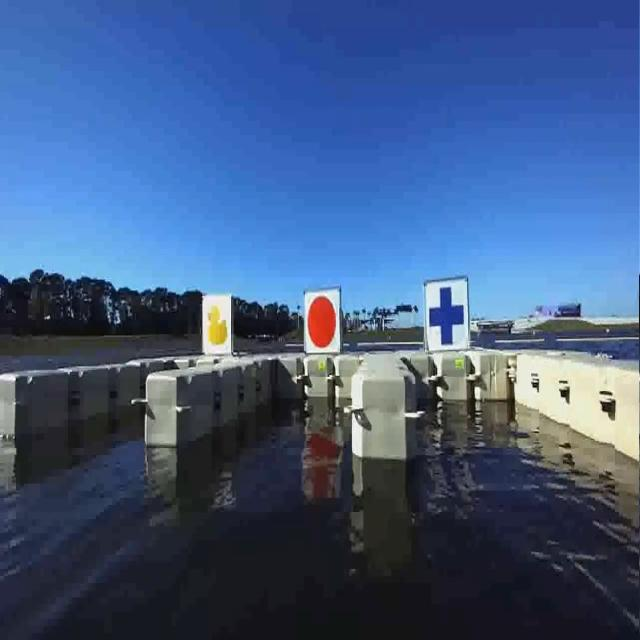blue-cross: (423, 274, 473, 351)
red-dot: (300, 284, 340, 348)
yellow-duck: (202, 294, 233, 360)
